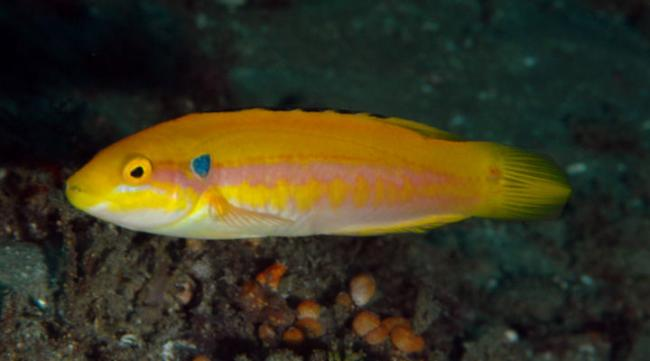fish: (67, 107, 572, 240)
